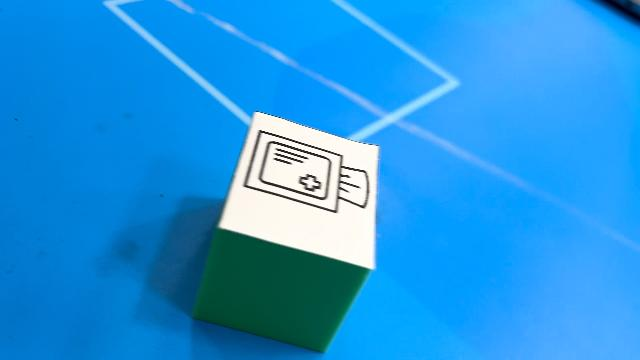napkin: (190, 109, 382, 353)
